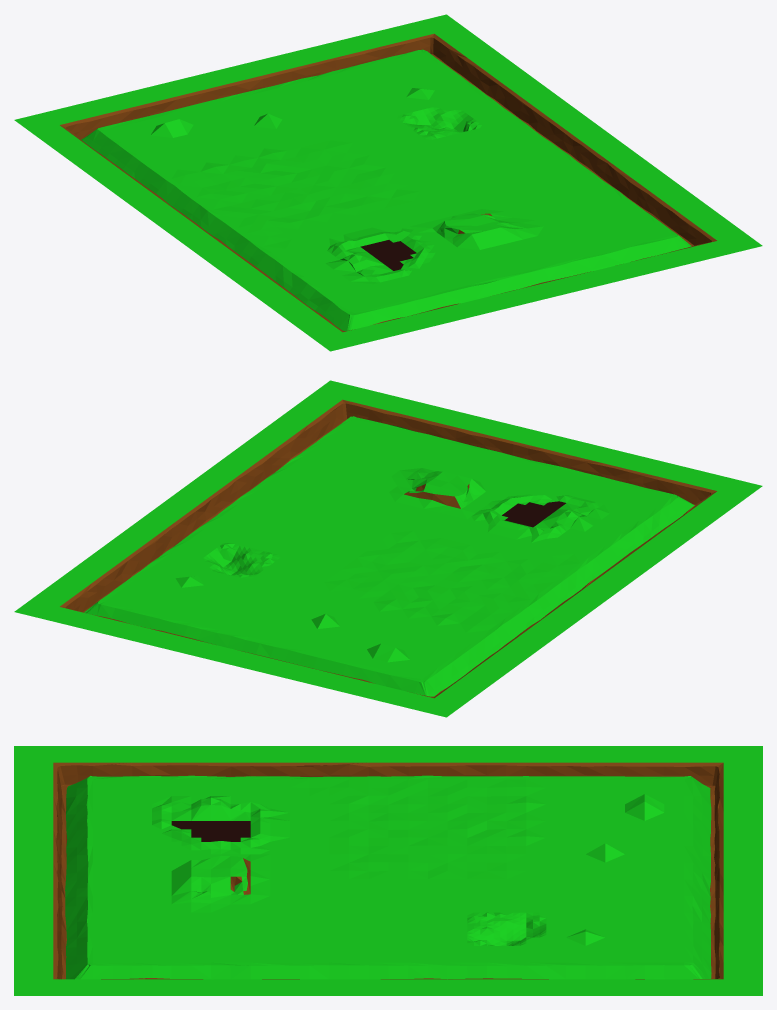
File: town_base.obj
3 views of the same model, one above another, from view 1: azimuth 30°, elevation 25°; view 2: azimuth 150°, elevation 25°; view 3: azimuth 270°, elevation 25° (orthographic). The views are drawn at different scales.
Visible parts, largest first — view 1: FullSquare, newouter; view 2: FullSquare, newouter; view 3: FullSquare, newouter.
Part boxes in pixels (left/top/right/bottom): FullSquare: left=105, top=53, right=671, bottom=312; newouter: left=14, top=14, right=762, bottom=351; FullSquare: left=105, top=419, right=671, bottom=678; newouter: left=14, top=380, right=762, bottom=717; FullSquare: left=93, top=779, right=683, bottom=962; newouter: left=14, top=746, right=762, bottom=995.
Bounding box in the file's own units: 150 × 8.75 × 190.
